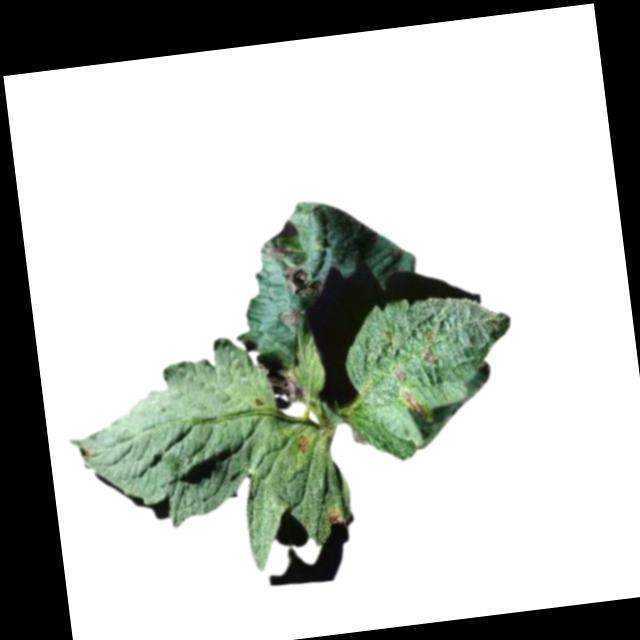Early_blight: (265, 359, 306, 408), (280, 261, 324, 299), (403, 387, 431, 420), (275, 303, 303, 328), (266, 239, 293, 263), (326, 508, 345, 528), (294, 431, 310, 452), (420, 345, 437, 363), (393, 367, 409, 383)
